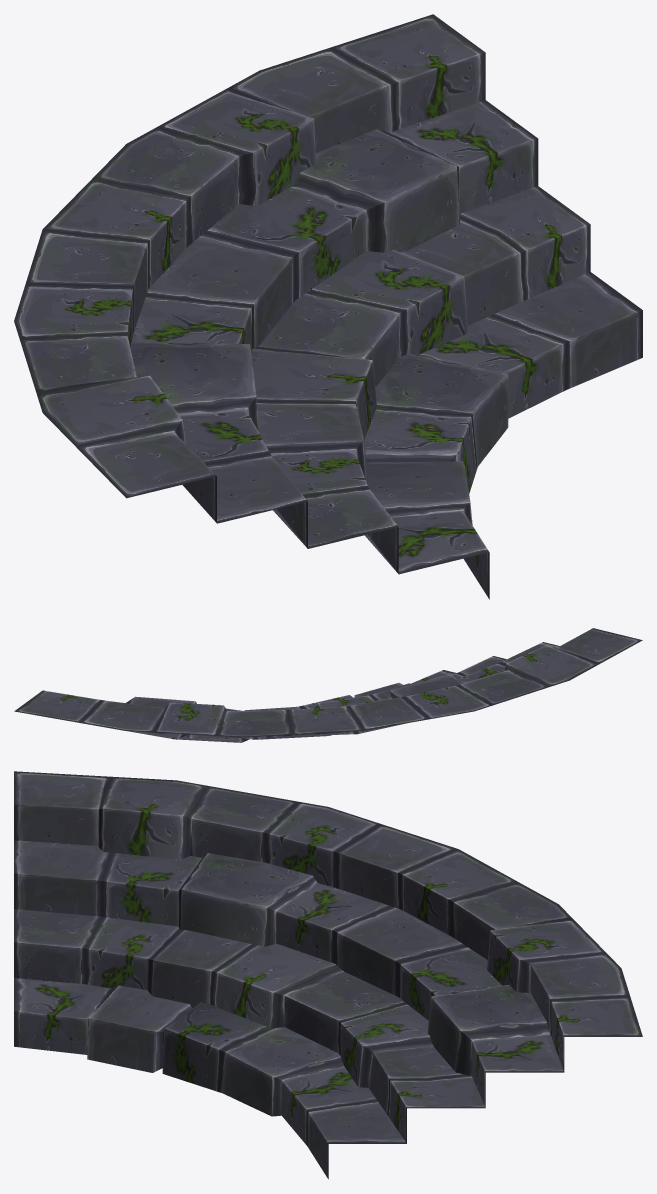
File: MOD_Stairs_01_E_concave_5.fbx
3 renders of one model, top to bottom at view 1: azimuth 30°, elevation 25°; view 2: azimuth 150°, elevation 25°; view 3: azimuth 270°, elevation 25°, orthographic. The views are drawn at different scales.
Parts seen in each view (by area): view 1: MOD_Stairs_01_E_concave_5; view 2: MOD_Stairs_01_E_concave_5; view 3: MOD_Stairs_01_E_concave_5.
Part boxes in pixels (box(x1,y1,x2,y2)): MOD_Stairs_01_E_concave_5: box(14, 14, 642, 599); MOD_Stairs_01_E_concave_5: box(14, 628, 642, 742); MOD_Stairs_01_E_concave_5: box(14, 771, 642, 1179).
Size of what is drawn, in the model's own units: 400 by 104 by 400.
